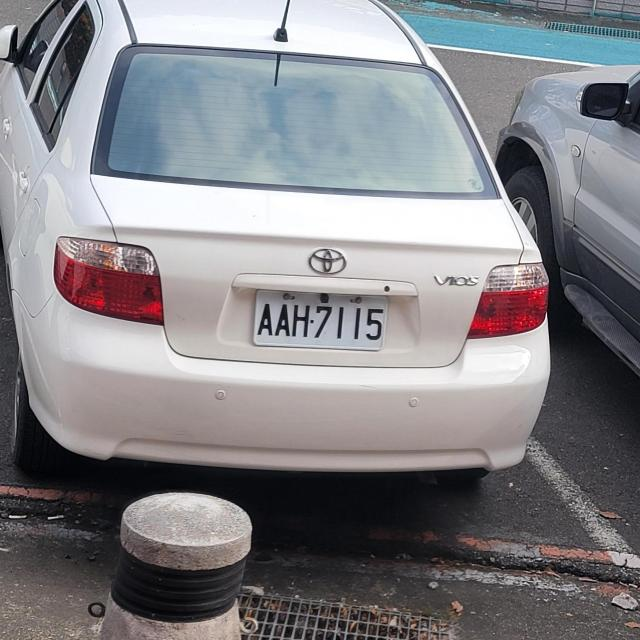W: (250, 284, 392, 354)
